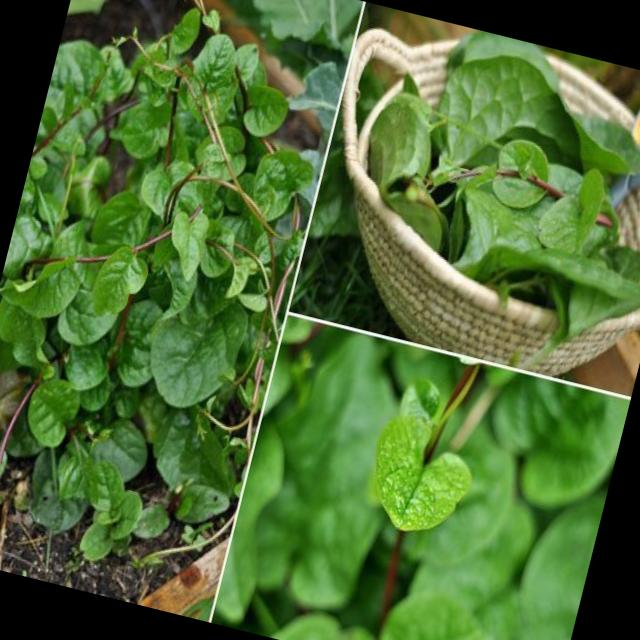Medicinal-Basale: (0, 0, 337, 569), (379, 31, 640, 307), (297, 363, 556, 640)
